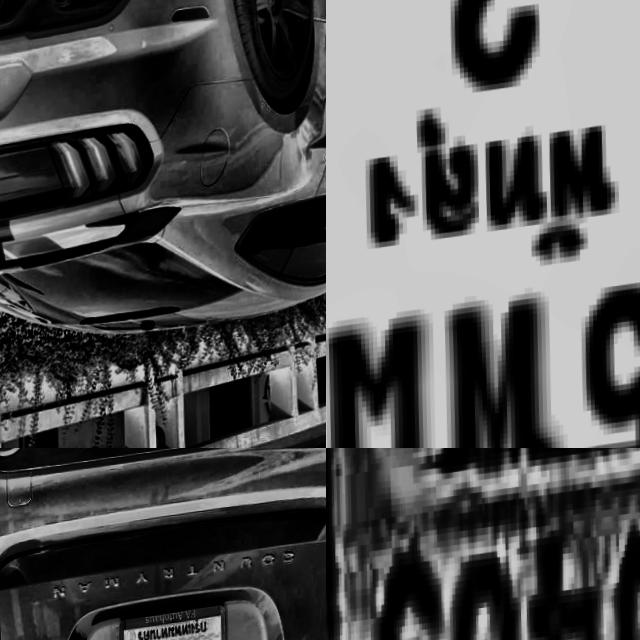license-plate: (326, 0, 640, 448), (326, 448, 640, 640), (116, 610, 228, 640)
